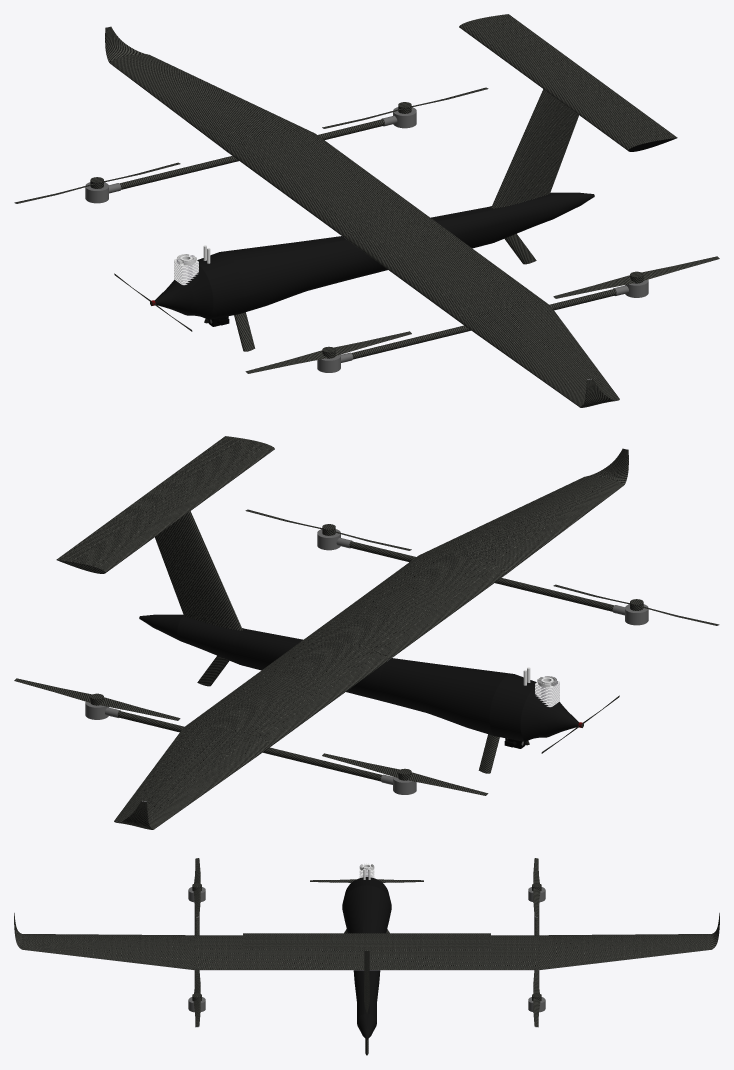
The model's file is final_design.glb.
3 renders of one model, top to bottom at view 1: azimuth 30°, elevation 25°; view 2: azimuth 150°, elevation 25°; view 3: azimuth 270°, elevation 25°, orthographic. The views are drawn at different scales.
Parts seen in each view (by area): view 1: Solid2; view 2: Solid2; view 3: Solid2.
Boxes of the visible parts, x1,y1,x2,y2 form: Solid2: [14, 14, 719, 407]; Solid2: [14, 436, 719, 829]; Solid2: [14, 858, 719, 1055].
Size of the model in its own units: 1.61 by 0.5656 by 2.85.
10 materials, 1 textured.
